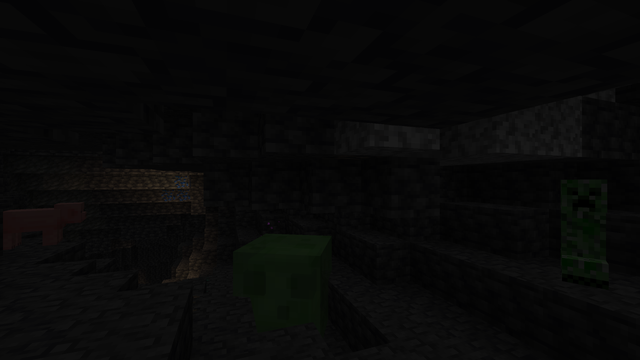cochons: (3, 206, 67, 249)
creepers: (549, 174, 618, 287)
slimes: (243, 229, 341, 325)
